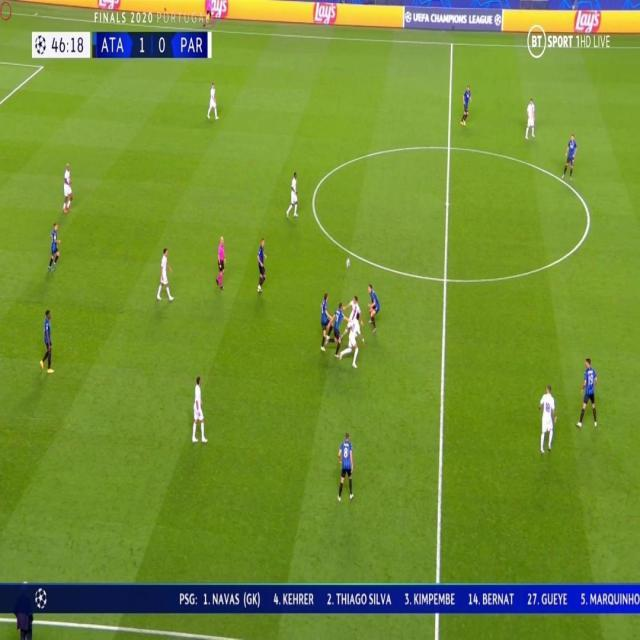ball: (345, 257, 351, 268)
player: (577, 354, 599, 432), (342, 296, 364, 368), (538, 381, 557, 456), (336, 428, 355, 502), (191, 373, 209, 446), (156, 244, 175, 304), (38, 307, 54, 375), (318, 290, 334, 351), (47, 221, 63, 274), (256, 234, 270, 294), (562, 131, 579, 180), (285, 168, 301, 219), (330, 299, 344, 356), (61, 158, 75, 214), (365, 282, 380, 333), (525, 95, 537, 141), (460, 84, 473, 126), (206, 79, 219, 121)
referee: (215, 233, 228, 291)
